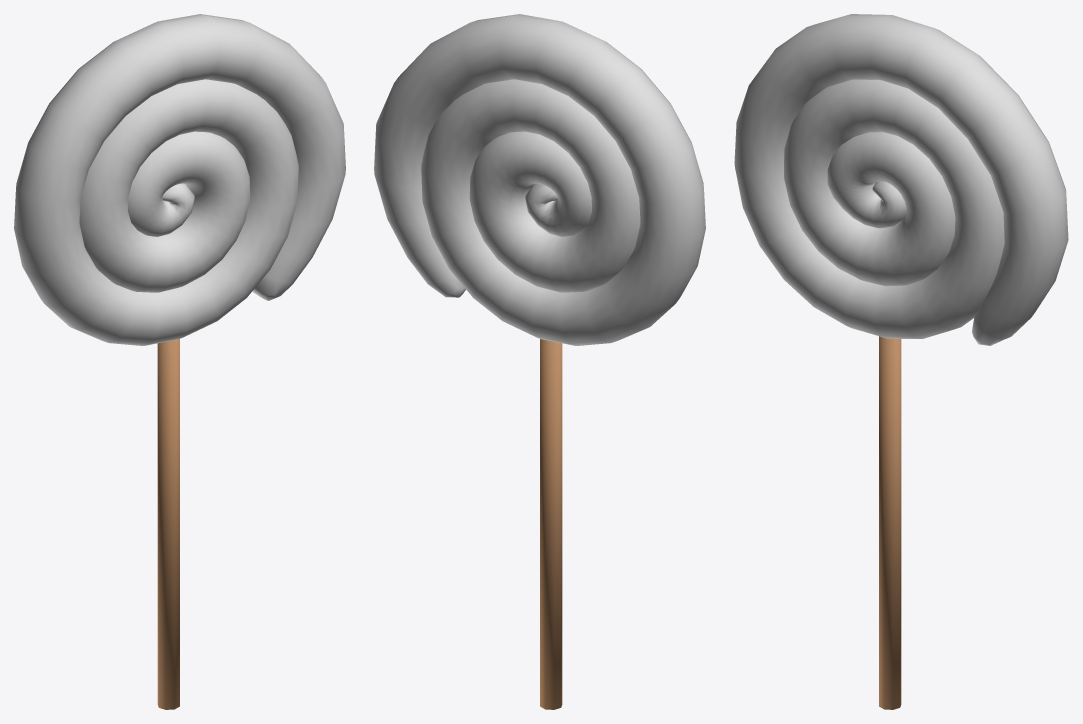
File: Lolipop.fbx
The picture shows the model from 3 angles, left to right: view 1: azimuth 30°, elevation 25°; view 2: azimuth 150°, elevation 25°; view 3: azimuth 330°, elevation 25°; orthographic projection.
Parts seen in each view (by area): view 1: SpiralLolipop, Cylinder; view 2: SpiralLolipop, Cylinder; view 3: SpiralLolipop, Cylinder.
Part boxes in pixels (<box>): SpiralLolipop: <box>14,14,345,345</box>; Cylinder: <box>157,339,179,709</box>; SpiralLolipop: <box>374,14,705,345</box>; Cylinder: <box>540,339,562,709</box>; SpiralLolipop: <box>734,14,1068,345</box>; Cylinder: <box>879,336,901,709</box>.
Bounding box in the file's own units: 16.07 × 32.4 × 2.97.
